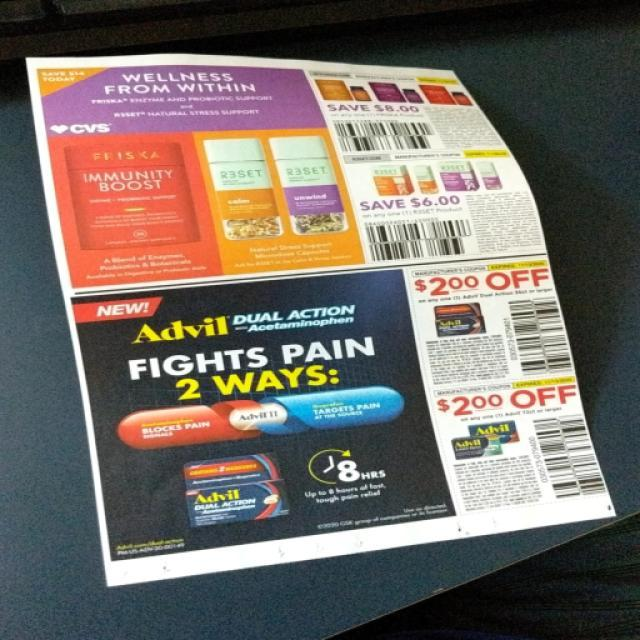document: (31, 55, 614, 585)
